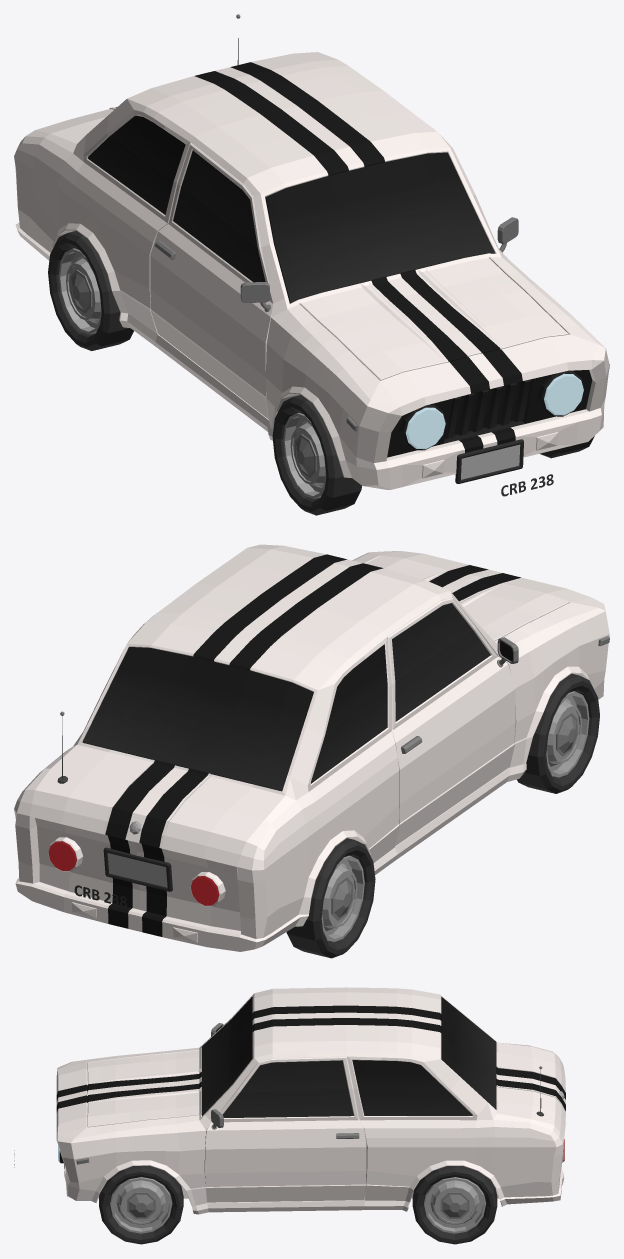
The model's file is van2.glb.
3 views of the same model, one above another, from view 1: azimuth 30°, elevation 25°; view 2: azimuth 150°, elevation 25°; view 3: azimuth 270°, elevation 25° (orthographic). The views are drawn at different scales.
Parts seen in each view (by area): view 1: Plane.012, Plane.009, Plane.011, Circle.021, Circle.022, Circle.019, Plane.016, Plane.025, Plane.015; view 2: Plane.012, Plane.014, Plane.011, Circle.022, Circle.021, Plane.013, Circle.017; view 3: Plane.012, Plane.011, Circle.016, Circle.020, Plane.014, Plane.009.
Part boxes in pixels (x1,y1,x2,y2): Plane.012: (14,52,609,489); Plane.009: (265,152,494,303); Plane.011: (150,138,476,419); Circle.021: (272,395,361,515); Circle.022: (48,230,133,350); Circle.019: (399,371,584,450); Plane.016: (445,379,530,439); Plane.025: (455,439,523,483); Plane.015: (240,217,518,312); Plane.012: (14,544,609,951); Plane.014: (82,647,313,791); Plane.011: (387,597,515,845); Circle.022: (286,838,375,958); Circle.021: (517,673,599,793); Plane.013: (103,847,172,891); Circle.017: (48,837,225,906); Plane.012: (56,987,565,1214); Plane.011: (205,1056,366,1202); Circle.016: (412,1166,497,1244); Circle.020: (99,1165,183,1244); Plane.014: (441,996,496,1109); Plane.009: (201,997,252,1116).
Size of the model in its own units: 1.47 by 1.34 by 3.92.
5 materials, 4 textured.
